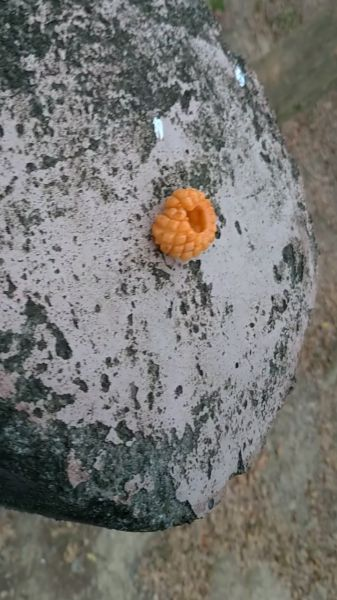eggs: (144, 184, 228, 267)
